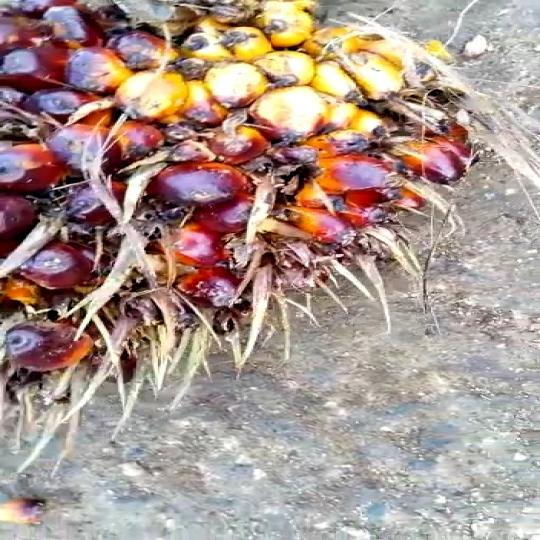masak: (0, 0, 488, 443)
